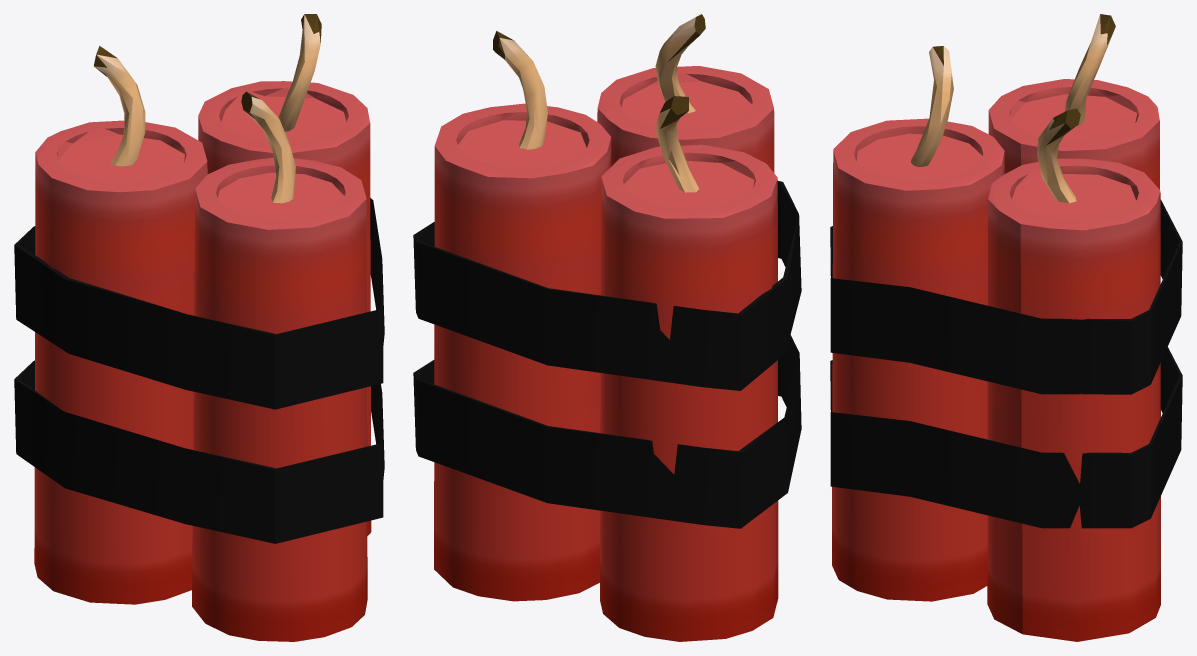
File: Dynamite.glb
3 views of the same model, side by side, from view 1: azimuth 30°, elevation 25°; view 2: azimuth 150°, elevation 25°; view 3: azimuth 270°, elevation 25° (orthographic). The views are drawn at different scales.
Parts seen in each view (by area): view 1: dynamite; view 2: dynamite; view 3: dynamite.
Boxes of the visible parts, x1,y1,x2,y2 form: dynamite: (14, 14, 384, 641); dynamite: (413, 14, 801, 641); dynamite: (830, 14, 1182, 641).
Bounding box in the file's own units: 1.18 × 1.8 × 1.13.
1 material, 1 textured.
